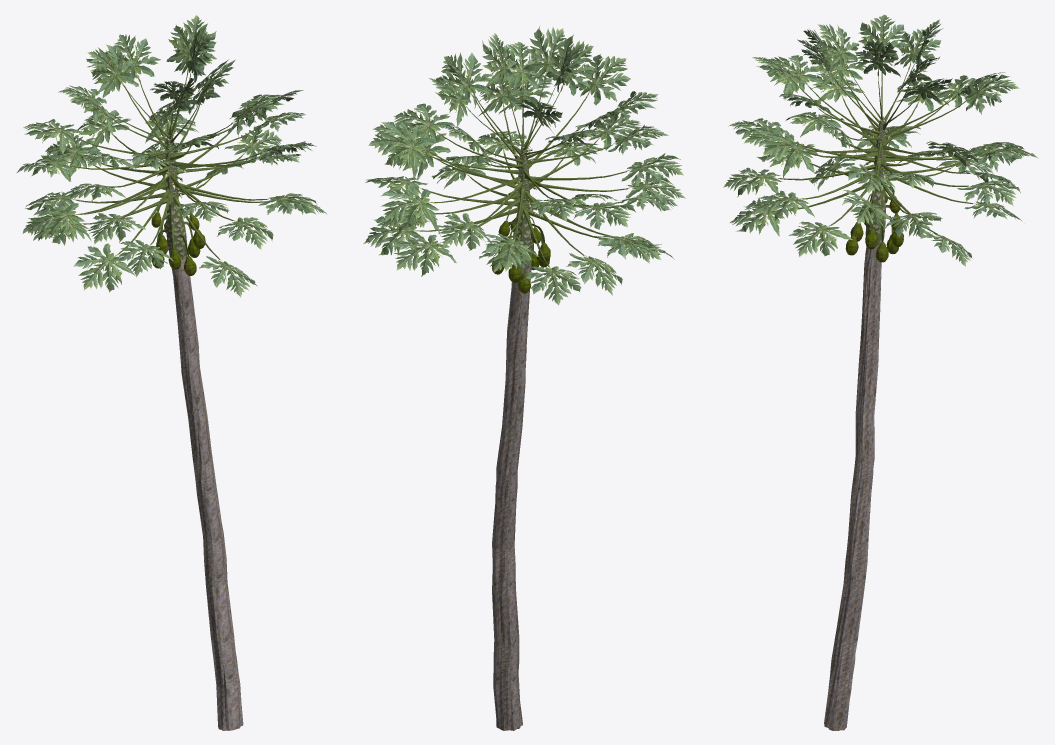
3 views of the same model, side by side, from view 1: azimuth 30°, elevation 25°; view 2: azimuth 150°, elevation 25°; view 3: azimuth 270°, elevation 25° (orthographic). The views are drawn at different scales.
Visible parts, largest first — view 1: FR01a; view 2: FR01a; view 3: FR01a.
Part boxes in pixels (x1=…): FR01a: x1=16, y1=15, x2=326, y2=730; FR01a: x1=363, y1=26, x2=685, y2=730; FR01a: x1=723, y1=14, x2=1038, y2=730.
Size of the model in its own units: 3.54 by 8.5 by 3.56.
7 materials, 7 textured.
